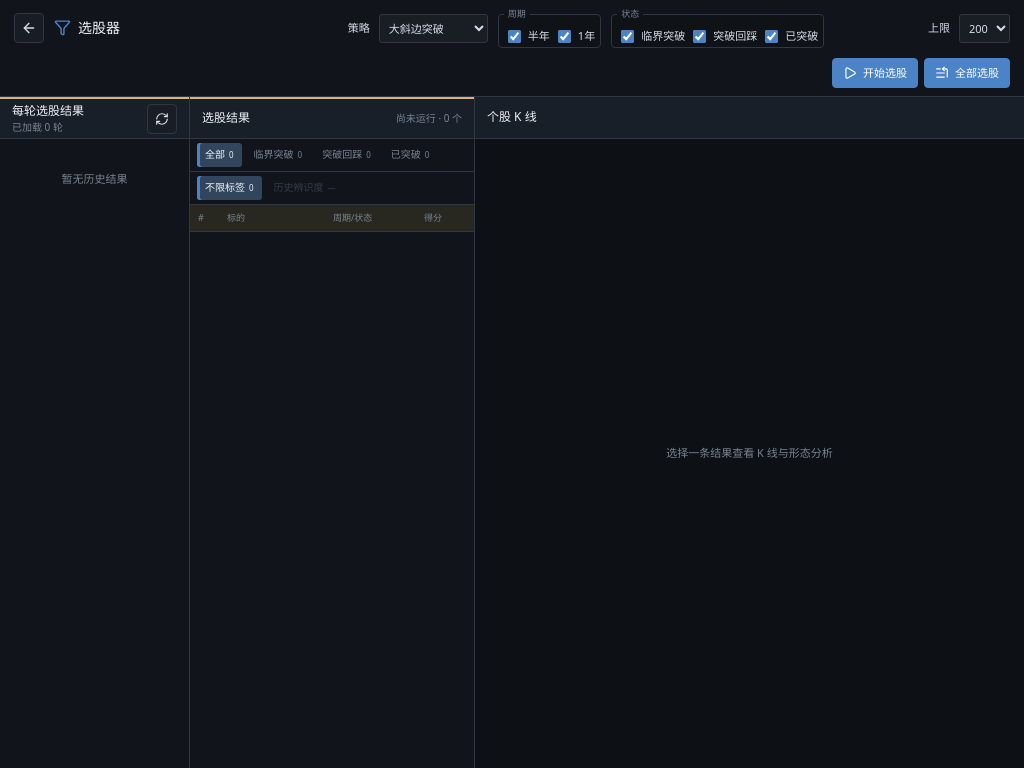
Test: ScreenerWorkspace › allows retry after batch creation fails
Click the button "全部选股" at (967, 73), box [924,58,1010,88]
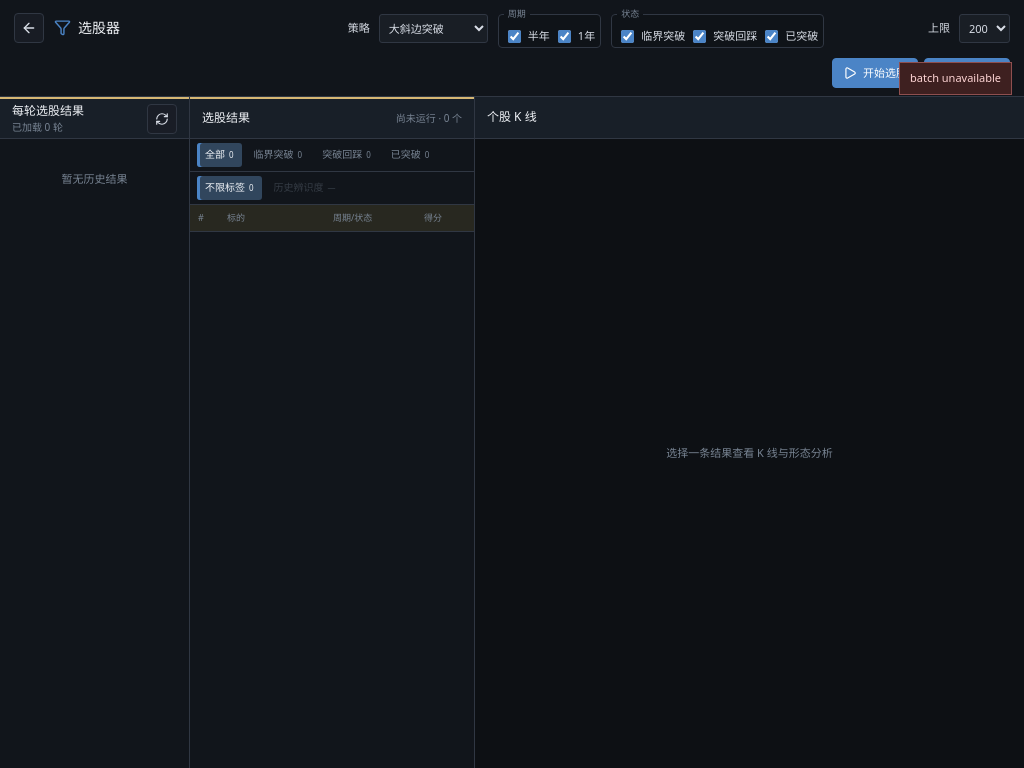
Expected: the text "batch unavailable" is shown, [899,62,1012,95]
